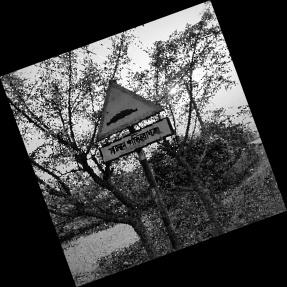Speed-breaker: (95, 81, 176, 165)
